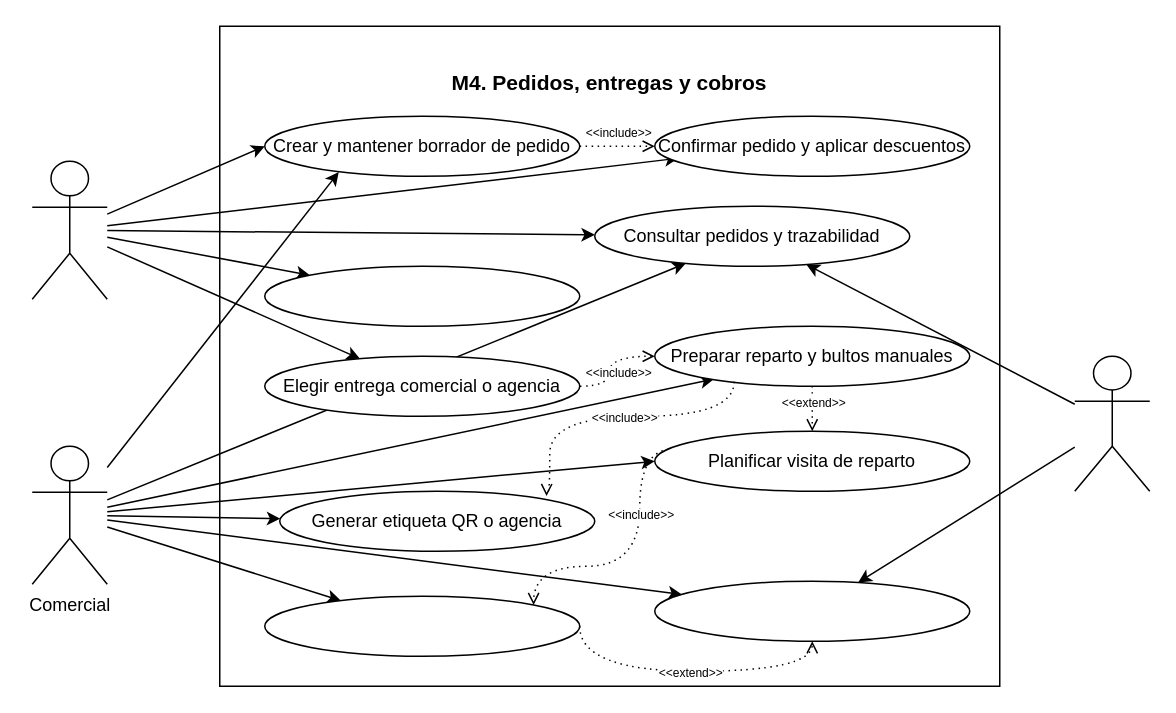
Some shapes in this 1176 by 713 pixel diagram are drawn without their labels. The box of each missing label's shape, as (x1, y1, x2, y2) in pixels:
Admin: (1073, 355, 1150, 491)
Cancelar pedido: (263, 265, 580, 326)
Cliente profesional: (31, 160, 107, 299)
Registrar pagos parciales o totales: (653, 580, 970, 641)
Validar entrega con QR: (263, 595, 580, 656)
